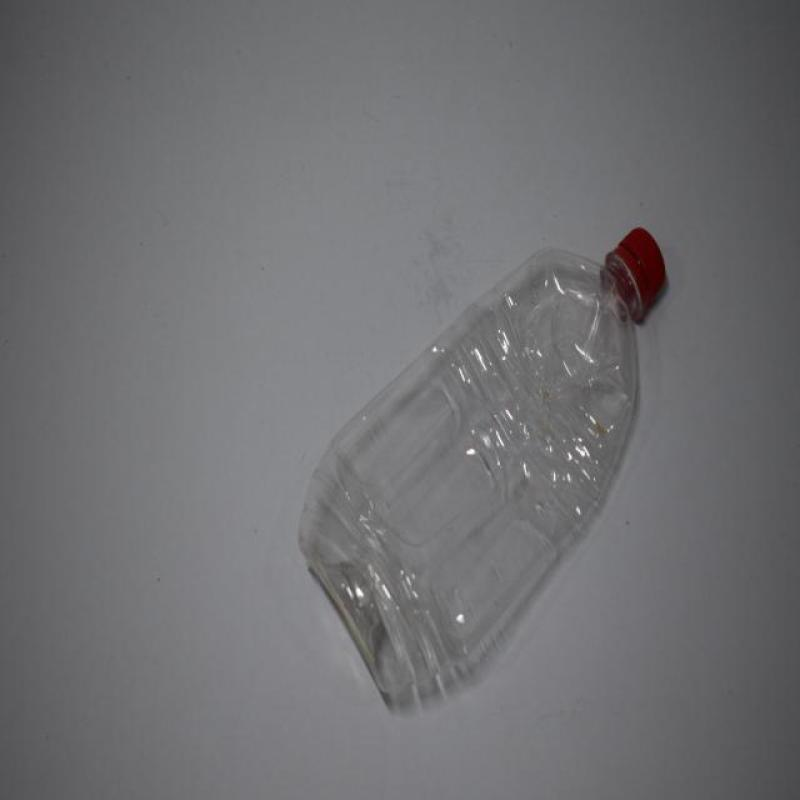botella: (293, 223, 666, 708)
